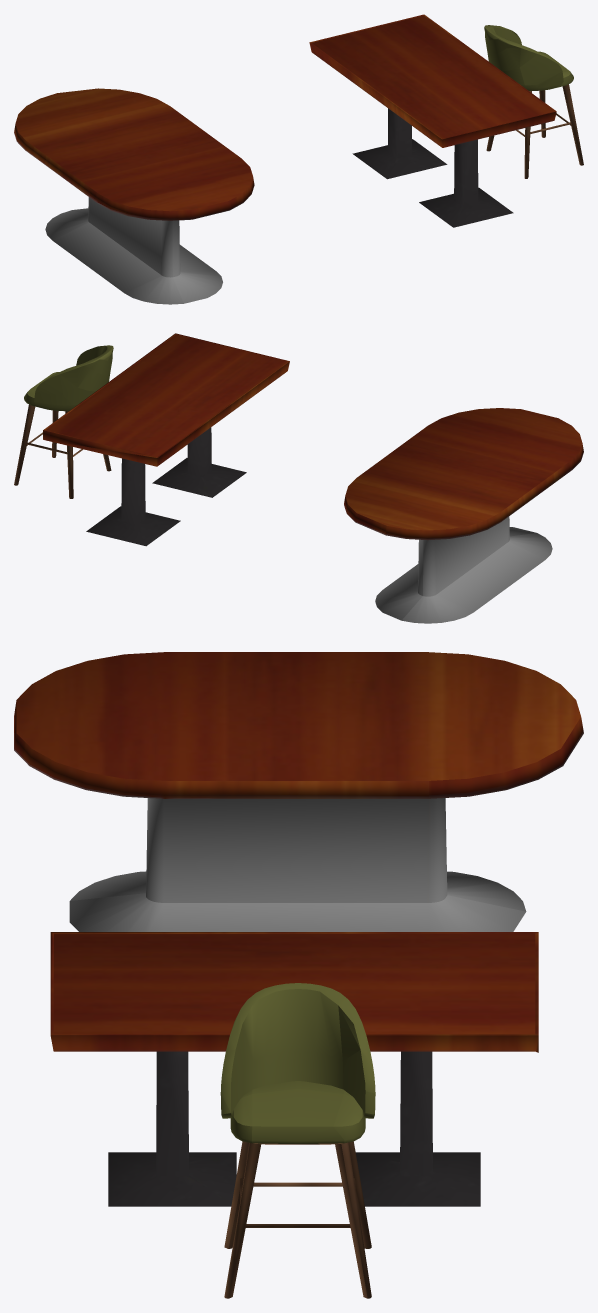
The model's file is props.fbx.
3 views of the same model, one above another, from view 1: azimuth 30°, elevation 25°; view 2: azimuth 150°, elevation 25°; view 3: azimuth 270°, elevation 25° (orthographic). The views are drawn at different scales.
Parts seen in each view (by area): view 1: polySurface13, polySurface14, polySurface7; view 2: polySurface13, polySurface14, polySurface7; view 3: polySurface13, polySurface14, polySurface7.
Boxes of the visible parts, x1,y1,x2,y2 form: polySurface13: [14, 88, 254, 304]; polySurface14: [309, 14, 556, 227]; polySurface7: [484, 25, 583, 178]; polySurface13: [344, 408, 583, 623]; polySurface14: [43, 333, 289, 546]; polySurface7: [14, 345, 113, 498]; polySurface13: [14, 652, 583, 931]; polySurface14: [50, 932, 538, 1206]; polySurface7: [220, 983, 375, 1298].
Size of the model in its own units: 10.99 by 2.82 by 5.85.
1 material, 1 textured.
